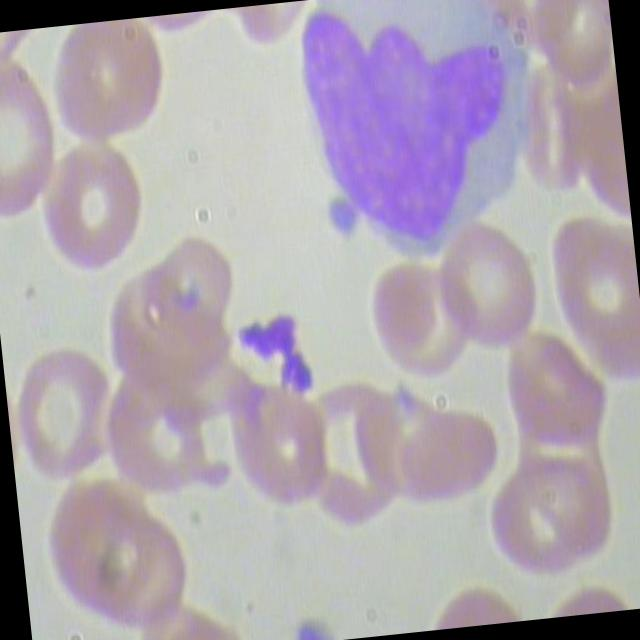Platelets: (266, 306, 306, 362), (320, 199, 364, 248), (234, 318, 276, 368), (278, 352, 322, 398)
RBC: (46, 19, 175, 160), (216, 381, 345, 522), (37, 133, 149, 274), (11, 348, 122, 490), (436, 226, 547, 358), (365, 260, 476, 390), (0, 51, 62, 226)
WBC: (285, 0, 557, 275)
